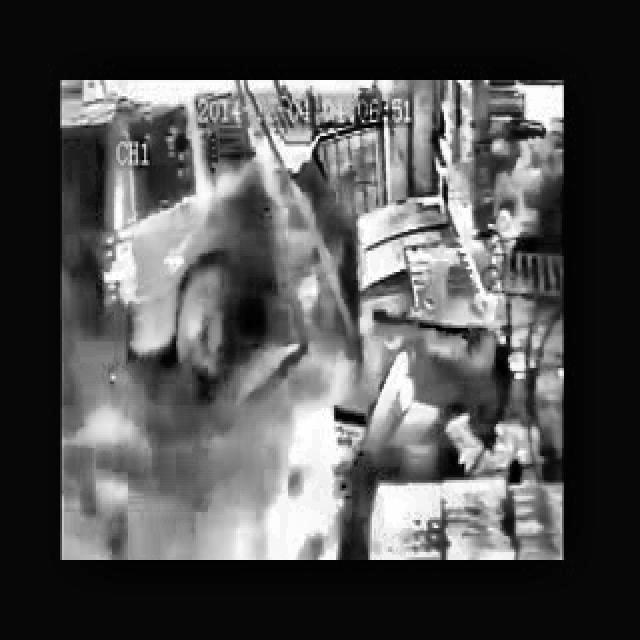burglary: (61, 79, 386, 402)
